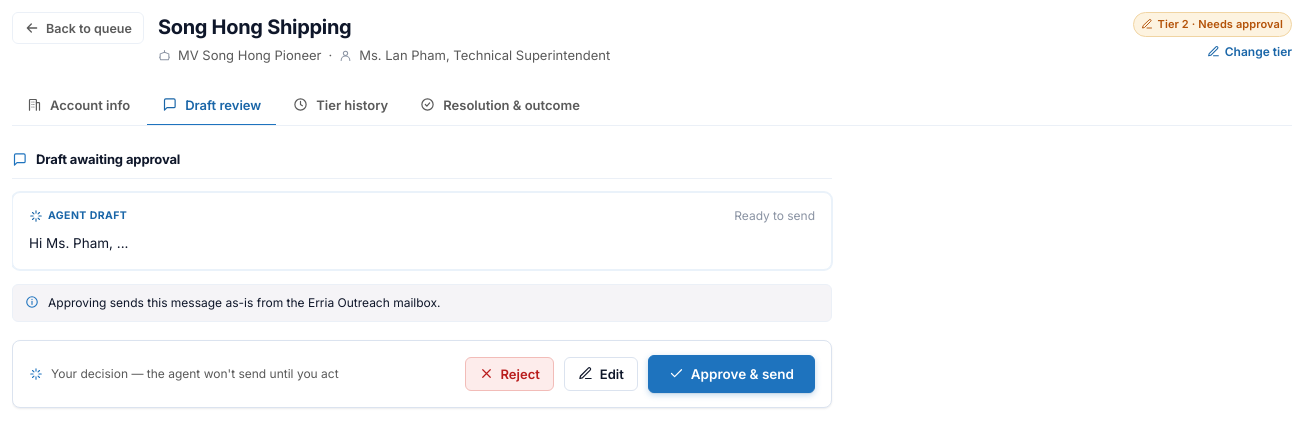
AccountDetailPage › shows the rejected state after rejecting
This screenshot has width=1304, height=426.
Expected: the text "Hi Ms. Pham, ..." is shown, [29, 235, 128, 251]
Click the button "Reject" at coordinates (509, 374), box [464, 357, 554, 391]
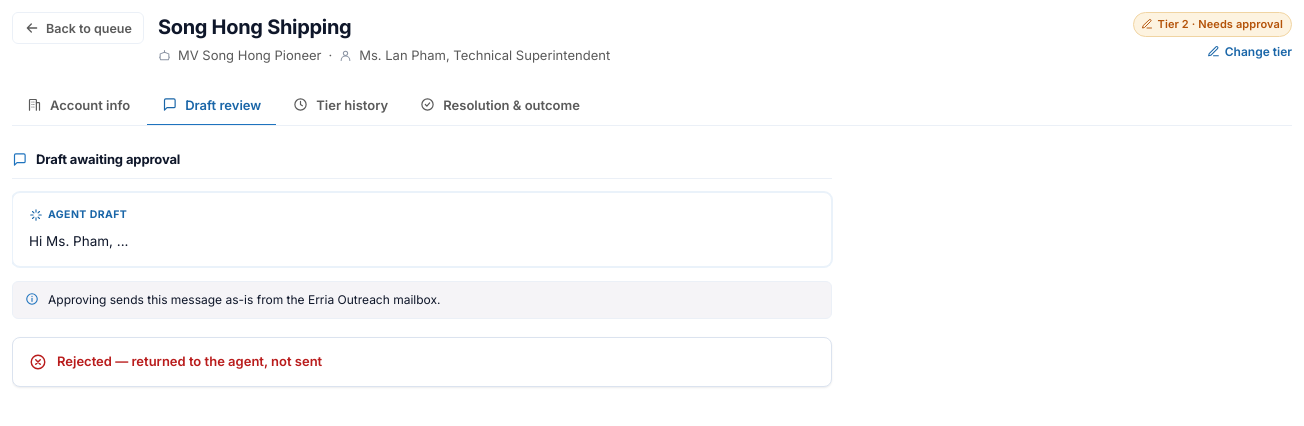
Result: the text "Rejected — returned to the agent, not sent" is shown at [29, 352, 322, 372]
Result: the button "Approve" is gone
